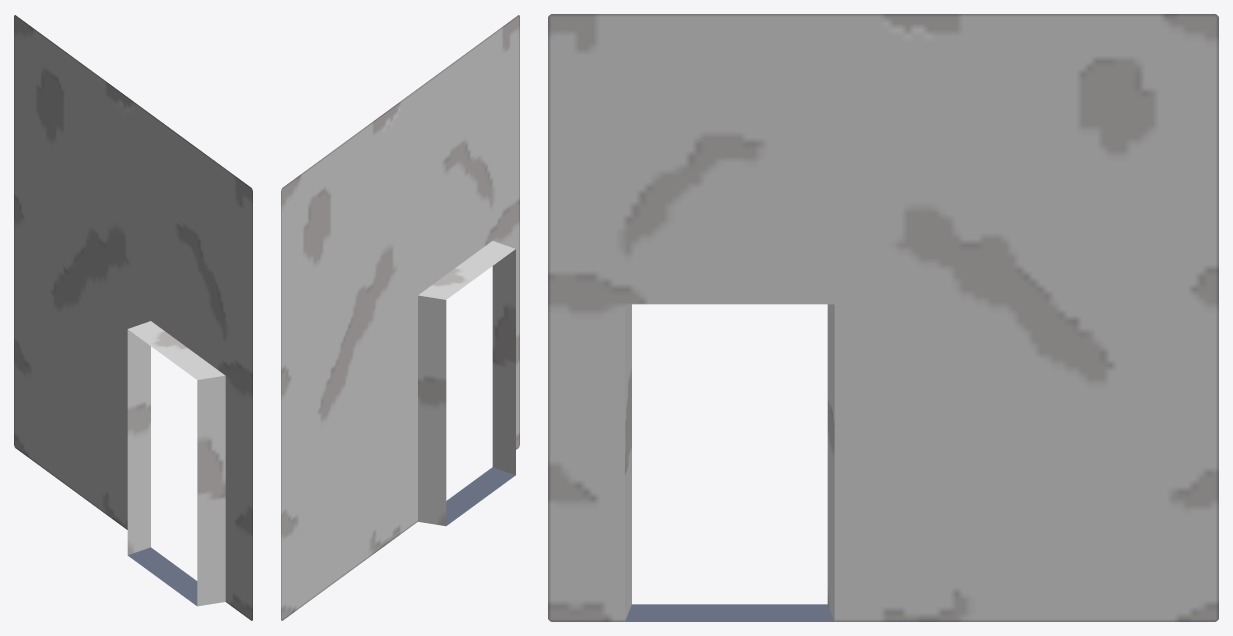
File: ParedPuertaBlanca3.fbx
3 views of the same model, side by side, from view 1: azimuth 30°, elevation 25°; view 2: azimuth 150°, elevation 25°; view 3: azimuth 270°, elevation 25° (orthographic). The views are drawn at different scales.
Parts seen in each view (by area): view 1: Pared + puerta 3; view 2: Pared + puerta 3; view 3: Pared + puerta 3.
Boxes of the visible parts, x1=… form: Pared + puerta 3: x1=14, y1=15, x2=252, y2=620; Pared + puerta 3: x1=281, y1=15, x2=519, y2=620; Pared + puerta 3: x1=548, y1=14, x2=1218, y2=621.
Size of the model in its own units: 18.75 by 300 by 300.
1 material, 1 textured.
